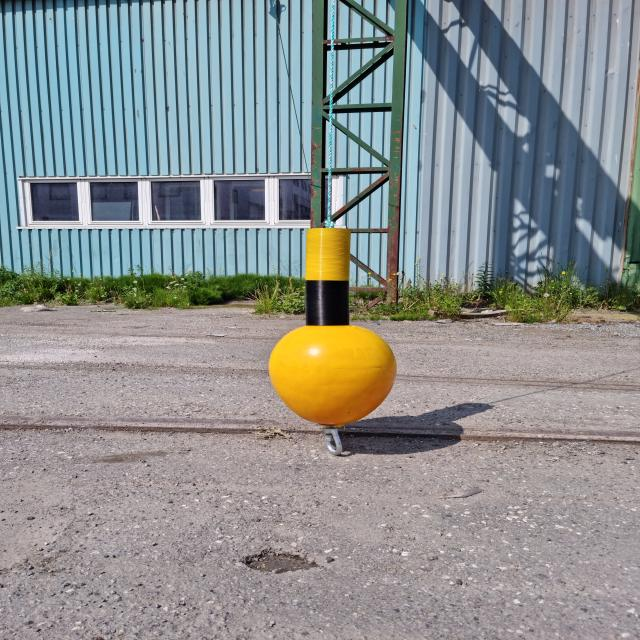west: (268, 226, 397, 425)
